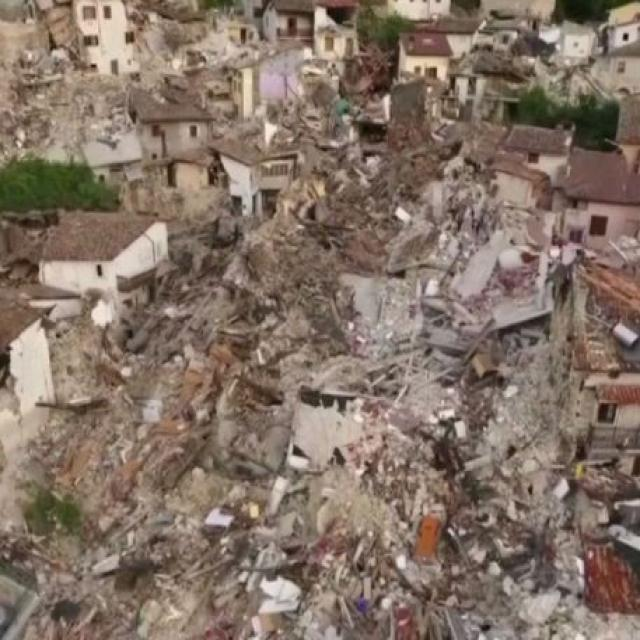collapsed_building: (164, 213, 532, 638), (272, 47, 402, 198), (0, 16, 69, 170)
